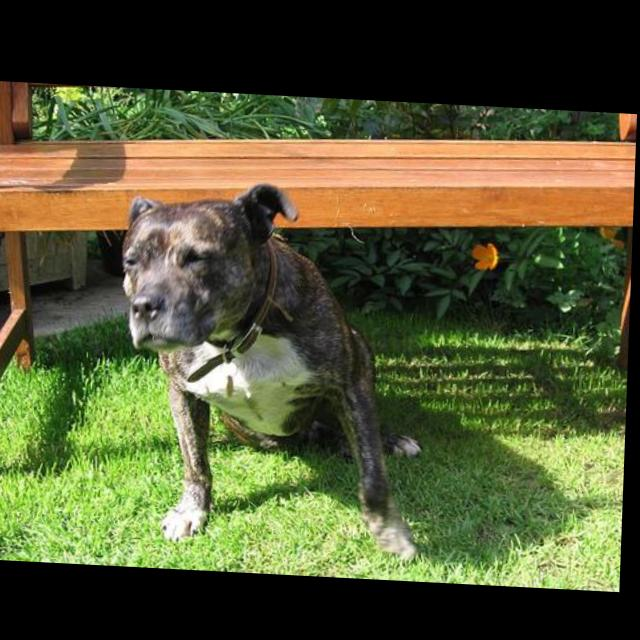amstaff: (116, 174, 435, 557)
